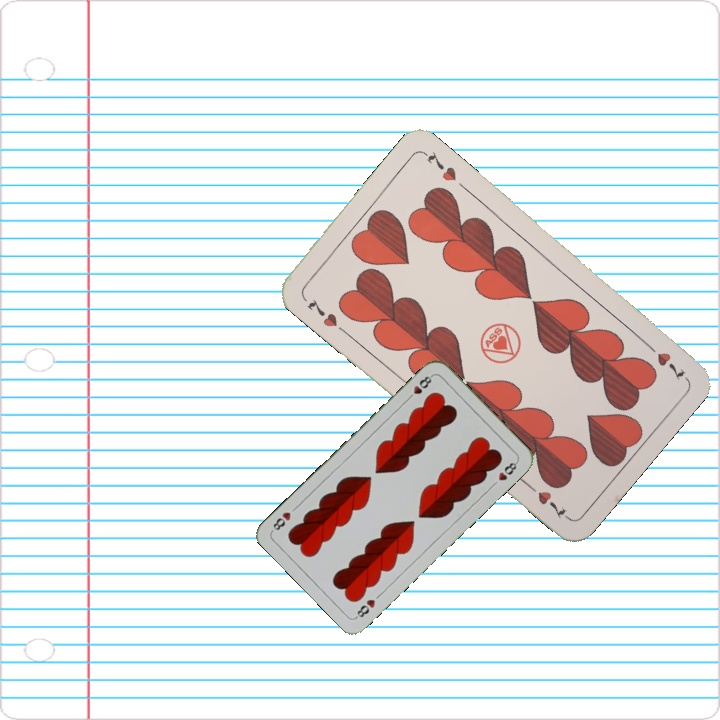H7: (641, 337, 688, 383), (303, 294, 340, 330)
H8: (403, 371, 436, 403), (352, 589, 384, 621)
